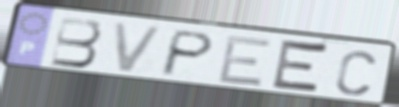B: (48, 15, 104, 70)
C: (333, 48, 378, 97)
E: (268, 37, 332, 97), (215, 34, 275, 89)
P: (157, 28, 218, 78)
V: (111, 20, 168, 76)
